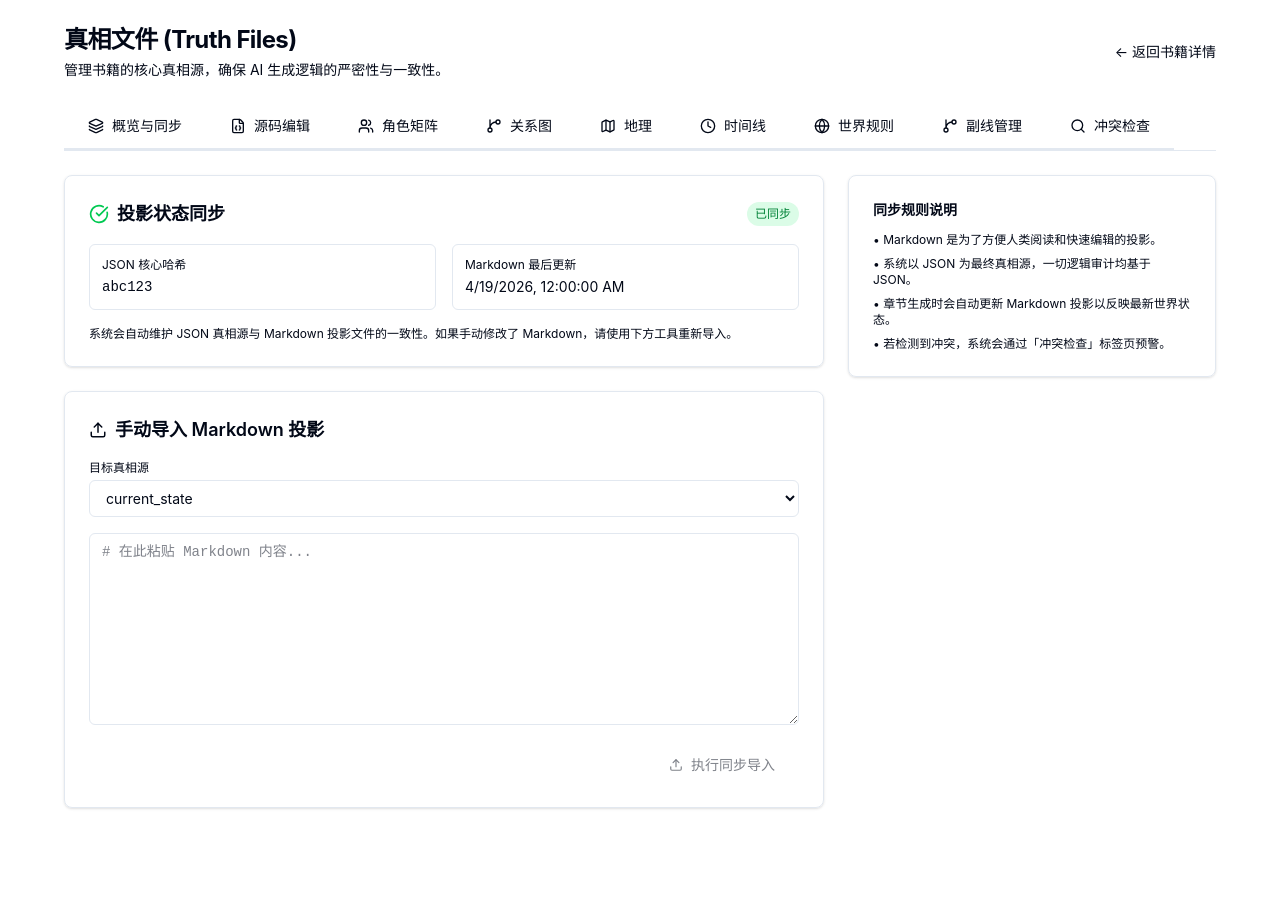
Scenario: TruthFiles Page › shows file size and update time
Expected: the heading "投影状态同步" is shown, [117,200,225,228]
Click the button "源码编辑".
click(270, 127)  # box [206,104,334,150]
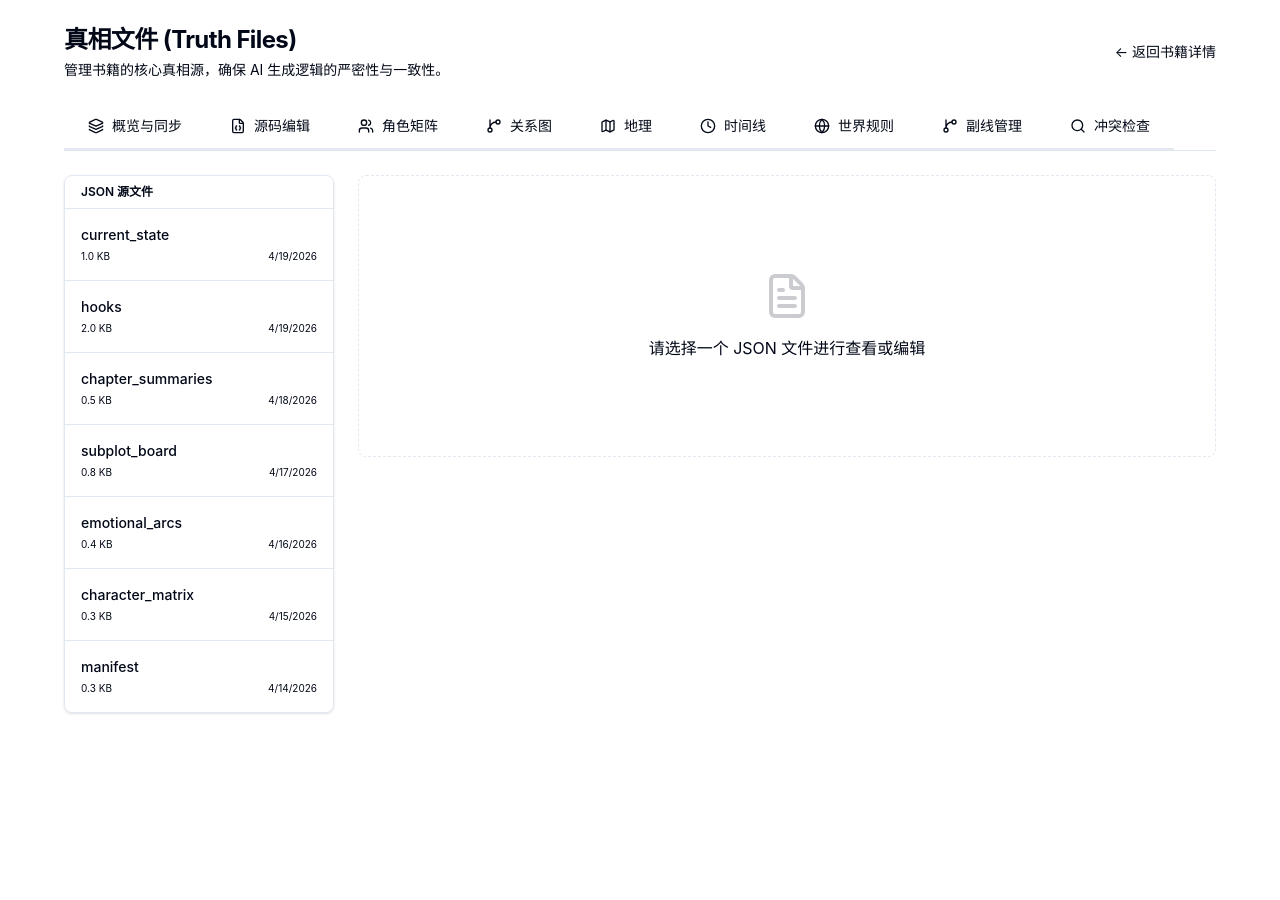
Expected: the text "1.0 KB" is shown, [81,249,110,264]
